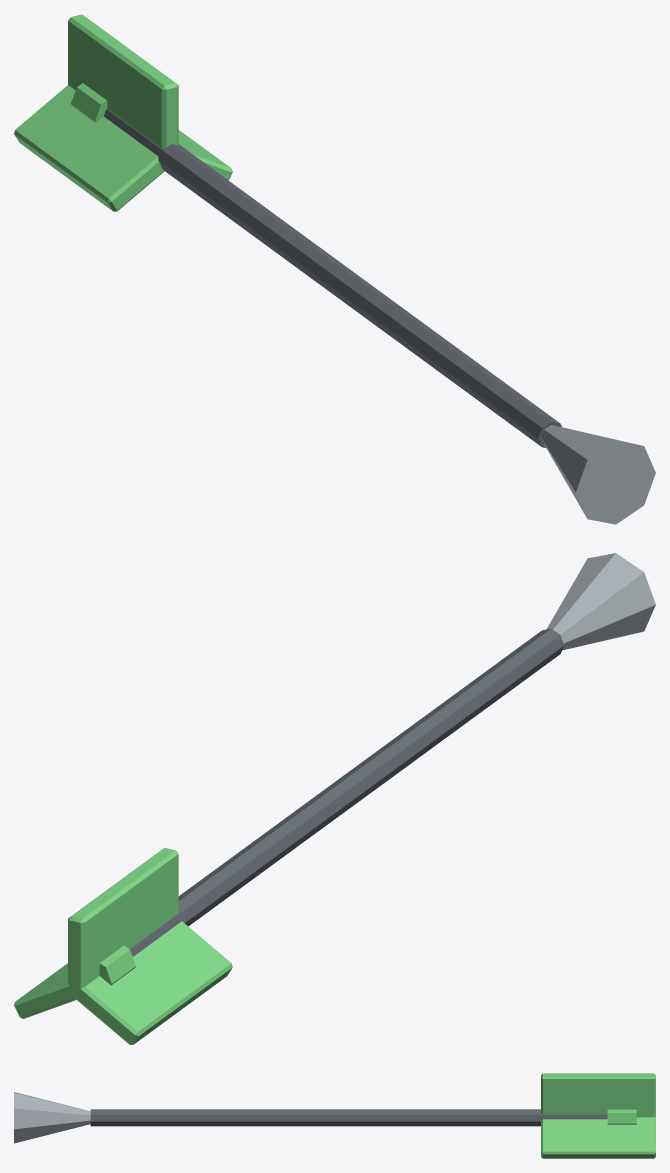
File: CrossBowBolt.glb
3 views of the same model, one above another, from view 1: azimuth 30°, elevation 25°; view 2: azimuth 150°, elevation 25°; view 3: azimuth 270°, elevation 25° (orthographic). The views are drawn at different scales.
Visible parts, largest first — view 1: BoltShaft, BoltFin03, BoltFin01, BoltTip, BoltNock, BoltFin02; view 2: BoltShaft, BoltFin03, BoltFin01, BoltTip, BoltFin02, BoltNock; view 3: BoltShaft, BoltFin01, BoltFin02, BoltTip, BoltNock.
Boxes of the visible parts, bbox=[...] form: BoltShaft: bbox=[103, 108, 561, 447]; BoltFin03: bbox=[14, 85, 164, 211]; BoltFin01: bbox=[68, 14, 178, 148]; BoltTip: bbox=[541, 425, 655, 524]; BoltNock: bbox=[71, 83, 107, 122]; BoltFin02: bbox=[178, 130, 232, 180]; BoltShaft: bbox=[130, 628, 564, 956]; BoltFin03: bbox=[71, 921, 232, 1044]; BoltFin01: bbox=[68, 847, 178, 992]; BoltTip: bbox=[546, 553, 655, 650]; BoltFin02: bbox=[14, 963, 77, 1018]; BoltNock: bbox=[99, 945, 135, 985]; BoltShaft: bbox=[90, 1109, 607, 1126]; BoltFin01: bbox=[541, 1073, 655, 1117]; BoltFin02: bbox=[541, 1117, 655, 1158]; BoltTip: bbox=[14, 1092, 90, 1143]; BoltNock: bbox=[607, 1109, 636, 1124].
Size of the model in its own units: 0.1342 by 0.1173 by 1.
